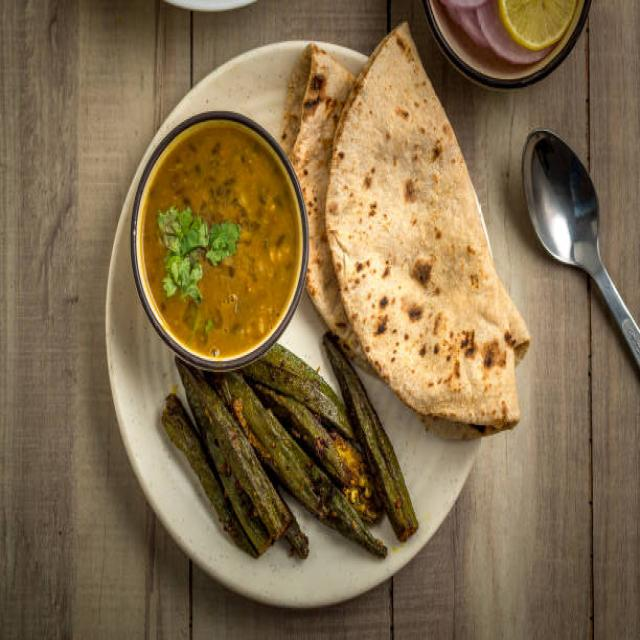CHAPATHI: (280, 25, 530, 436)
DAL: (149, 131, 294, 354)
VEGGIES: (166, 337, 419, 561)
